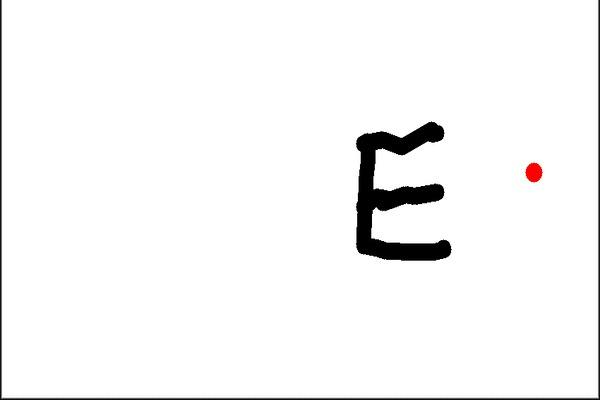E: (347, 119, 455, 264)
